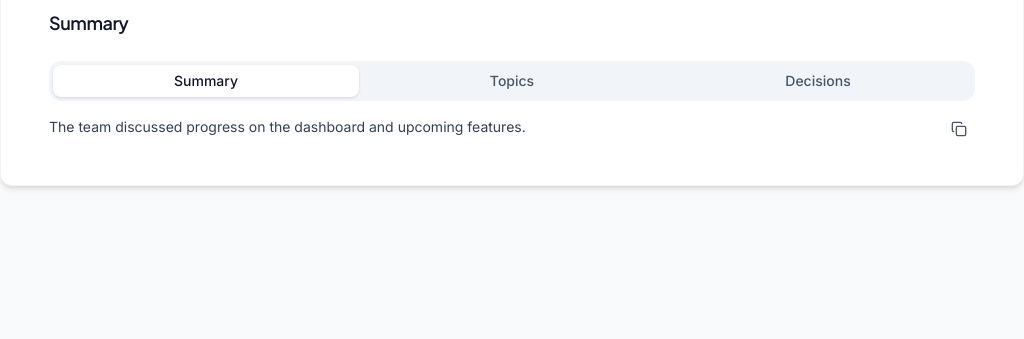
Test case: SummaryPanel › should switch to Topics tab and show topics
Click the tab "Topics" at (512, 81), box [359,65,665,97]
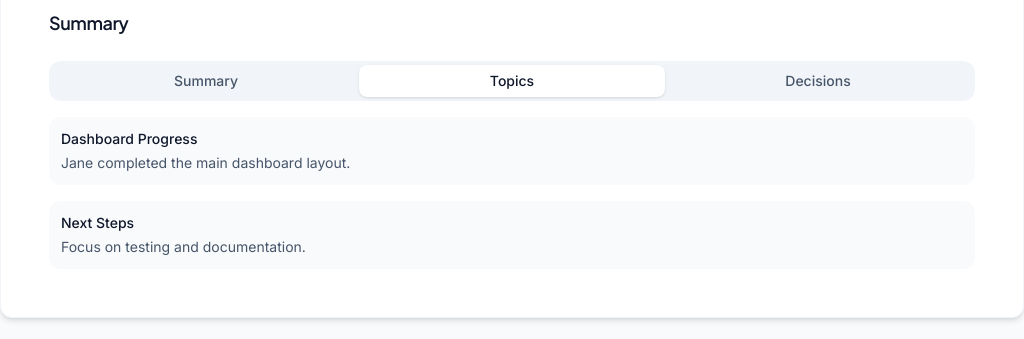
Check: the heading "Dashboard Progress" is shown, box [61,130,198,147]
Check: the text "Jane completed the main dashboard layout." is shown, box [61,154,350,171]
